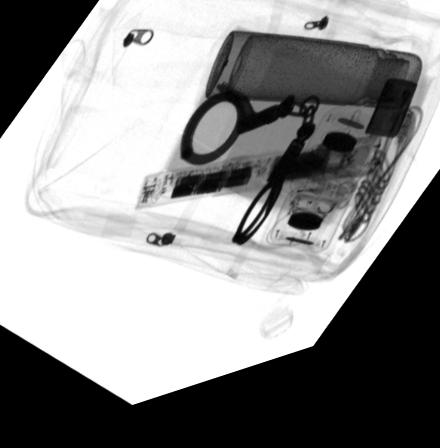Baton: (134, 159, 381, 218)
HandCuffs: (180, 96, 321, 264)
Lighter: (363, 102, 417, 164)
